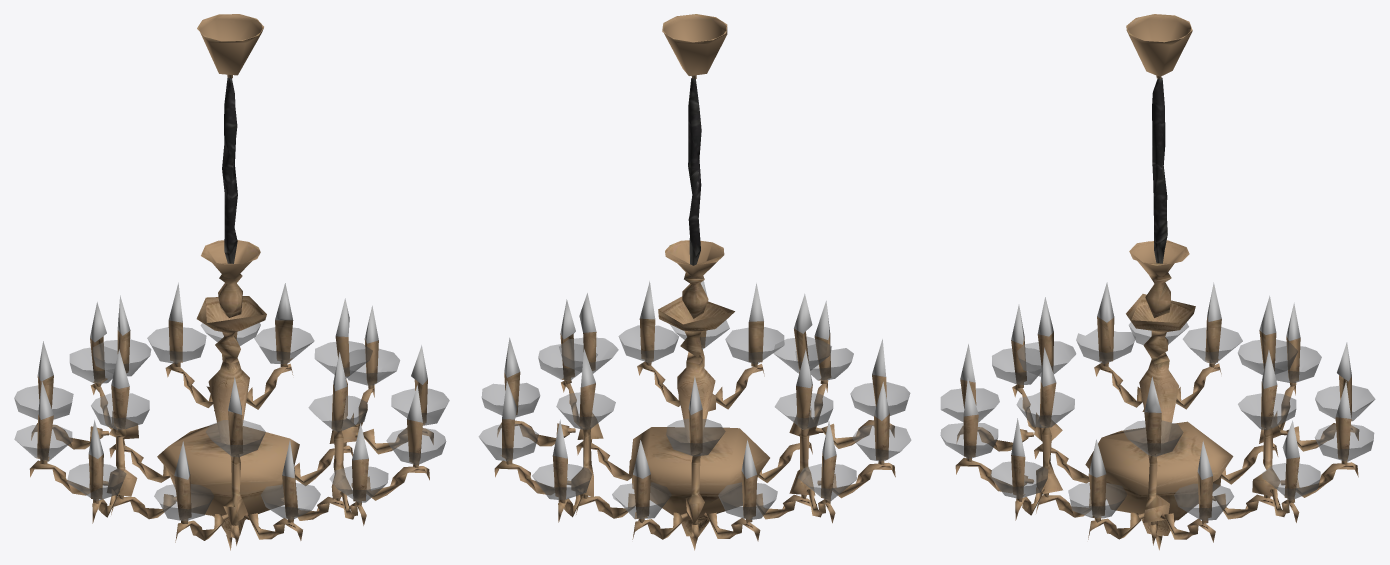
Rendered from Chandelier_03.glb.
3 views of the same model, side by side, from view 1: azimuth 30°, elevation 25°; view 2: azimuth 150°, elevation 25°; view 3: azimuth 270°, elevation 25° (orthographic).
Visible parts, largest first — view 1: Chandelier_03; view 2: Chandelier_03; view 3: Chandelier_03.
Part boxes in pixels (bbox=[...]): Chandelier_03: bbox=[14, 14, 449, 550]; Chandelier_03: bbox=[478, 14, 911, 550]; Chandelier_03: bbox=[940, 14, 1375, 550].
Bounding box in the file's own units: 0.7787 × 1.04 × 0.7845.
2 materials, 2 textured.
